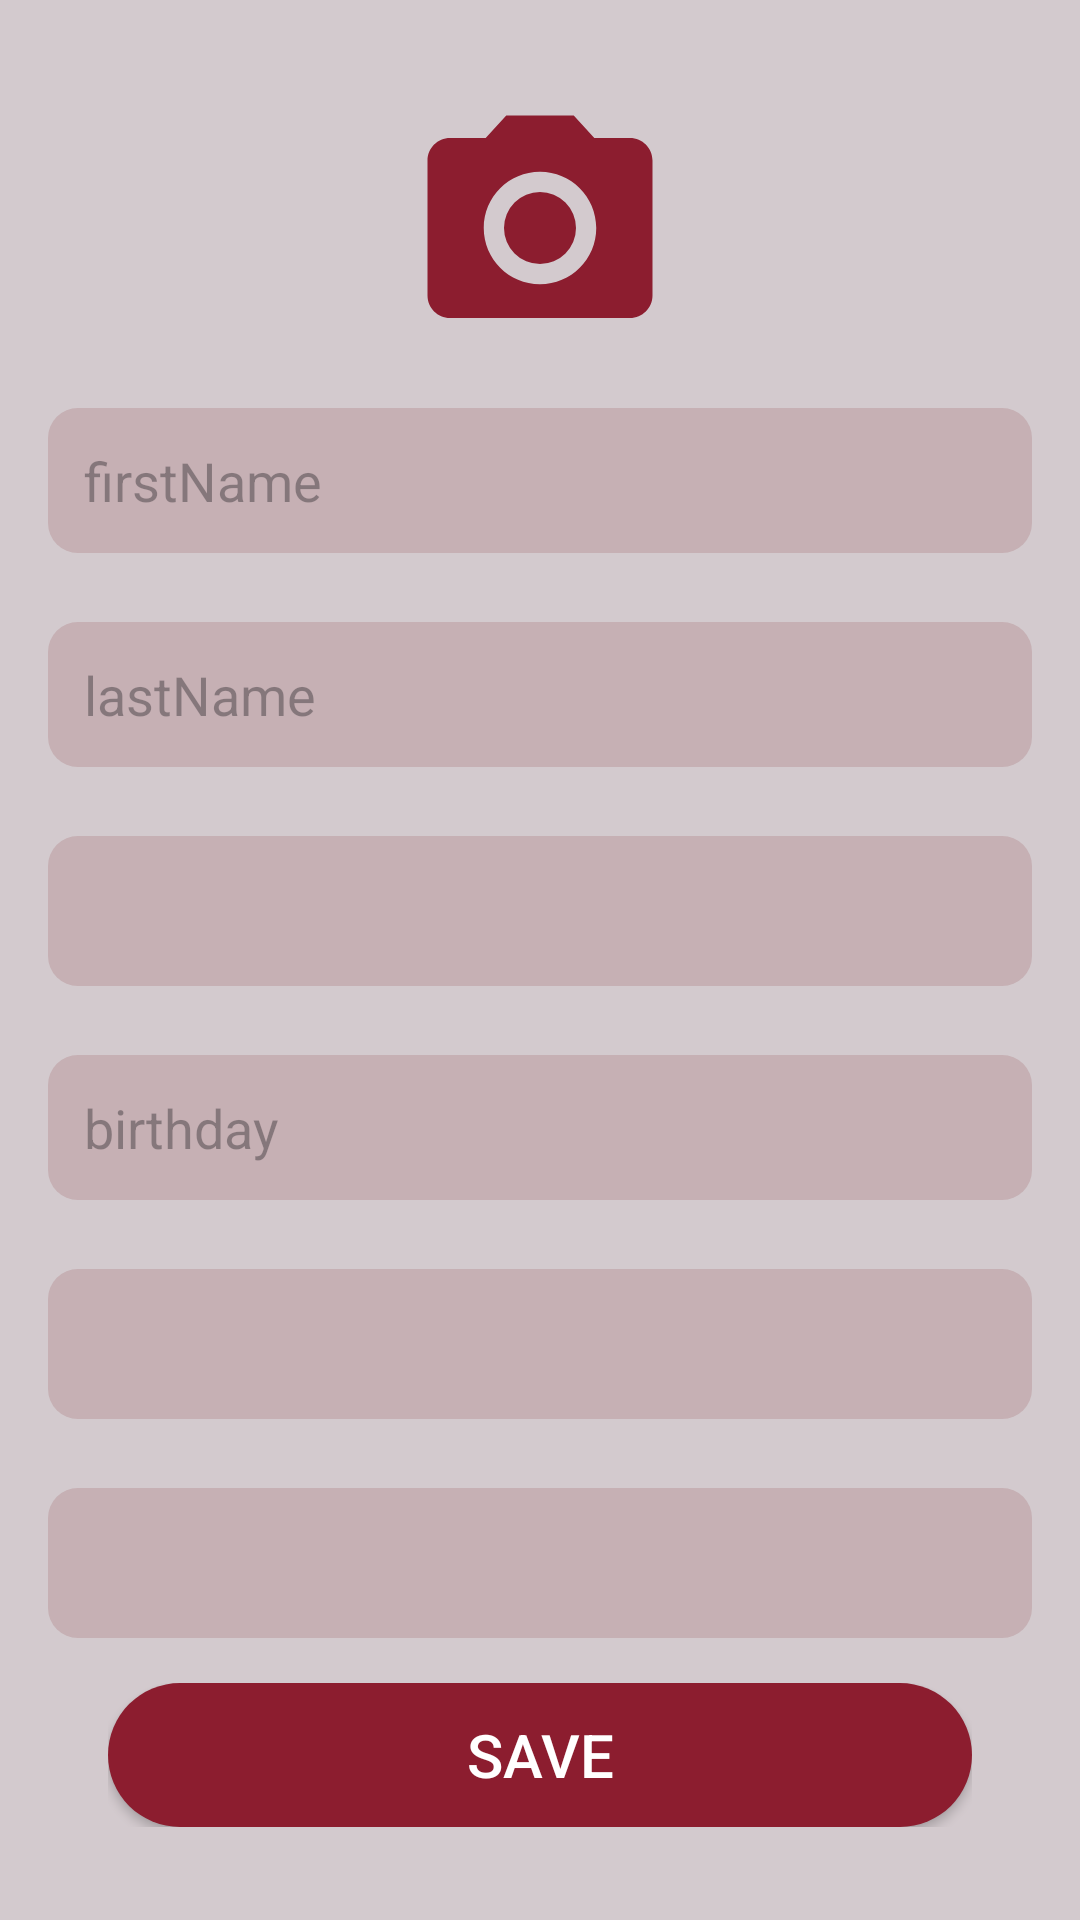

Locate icon controls on the screen. Image size 1080px x 1920px, boxes as [x1, y1, x2, y2].
camera: [427, 115, 653, 318]
